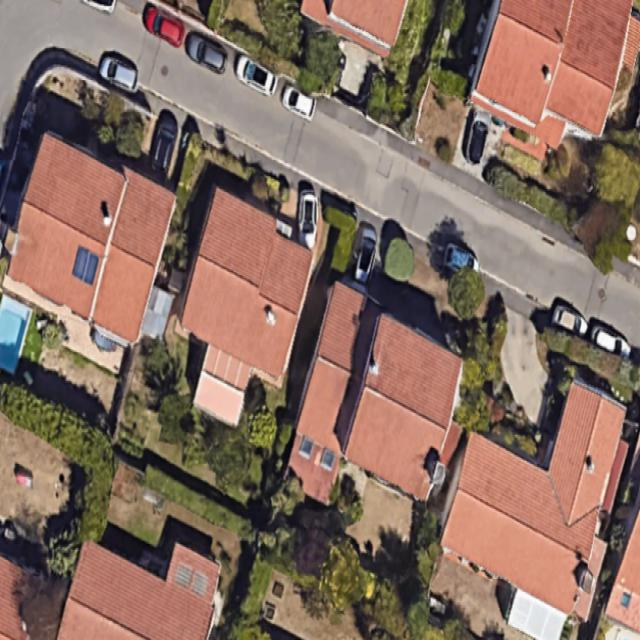maison: (264, 278, 484, 535), (155, 185, 326, 434), (0, 131, 182, 354), (458, 0, 640, 159), (59, 540, 220, 640), (300, 0, 407, 57)
